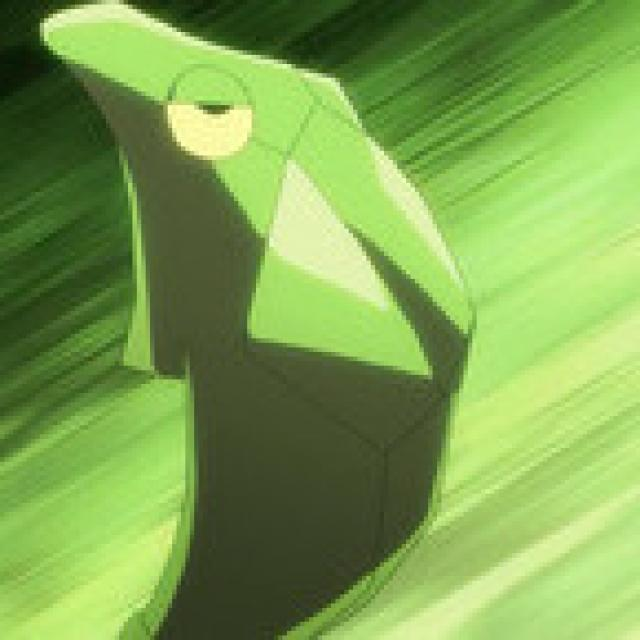Metapod: (36, 7, 474, 640)
